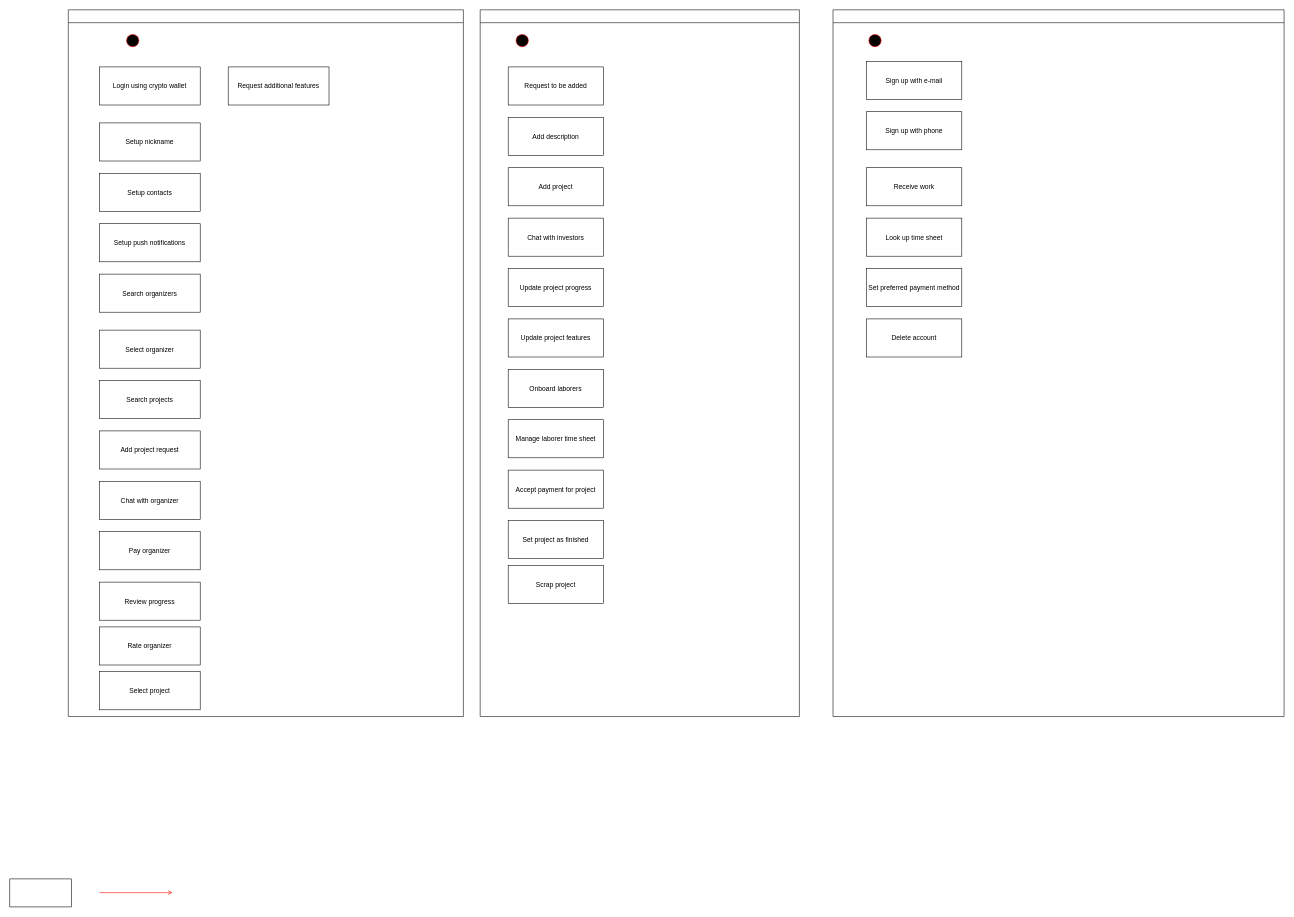
Some shapes in this 1294 by 917 pixel diagram are drawn without their labels. The shapes that lost their labels are listed below. From the top down, each one's box as (x1, y1, x2, y2) in pixels, then its label:
(68, 9, 463, 717): Investor
(480, 9, 799, 717): Organizer
(832, 9, 1284, 717): Settler
(9, 878, 71, 907): post command
